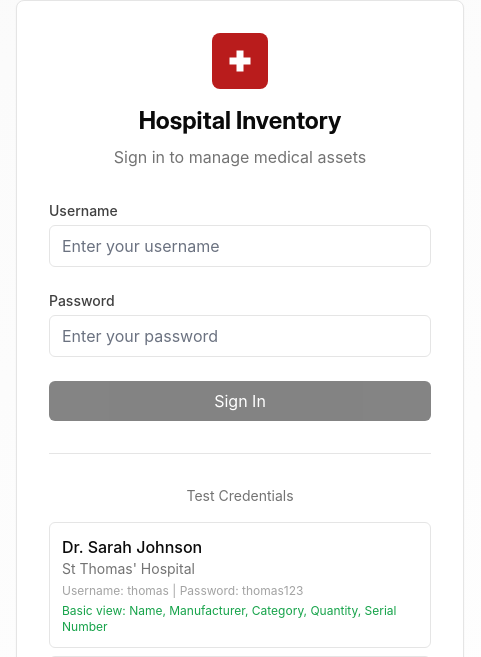
Test: LoginView Component › Test User Selection › should populate form when St Thomas test user is clicked
Click the button that starts with "Dr. Sarah Johnson".
click(240, 585)  # box [49,522,431,648]
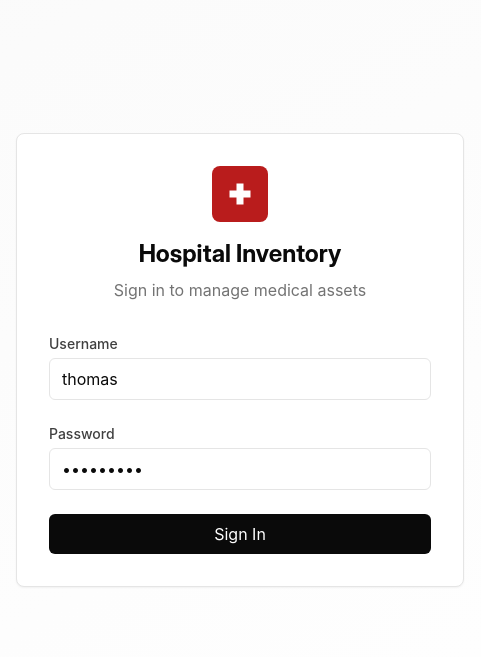
Expected: the field with test id "username" holds "thomas", [49,358,431,400]
Expected: the password field with test id "password" holds "thomas123", [49,448,431,490]
